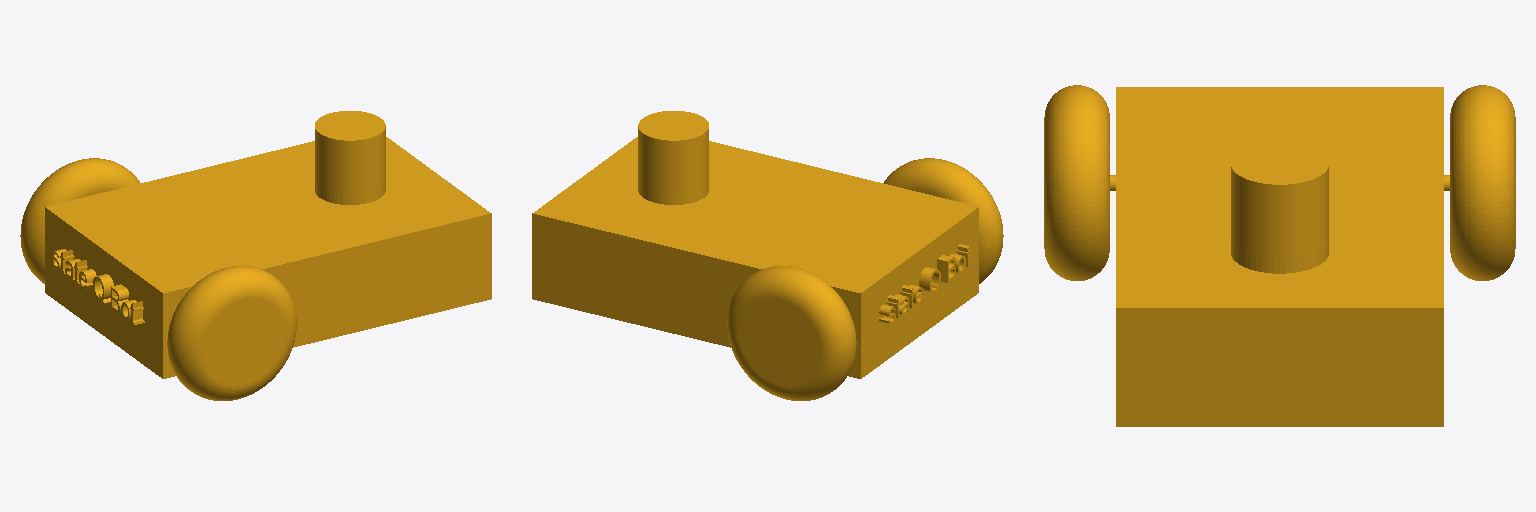
URDF robot description (stateqbot):
<?xml version="1.0"?>
<robot name="stateqbot">

  <!-- Materials -->
  <material name="Steel">
    <color rgba="0.910 0.678 0.137 1.0"/>
  </material>

  <link name="base_link">
    <inertial>
      <origin xyz="0.000124 0.000001 0.020106" rpy="0 0 0"/>
      <mass value="5.066079"/>
      <inertia ixx="4.880784e-03" ixy="3.230863e-07" ixz="-1.568186e-05"
               iyy="1.152398e-02" iyz="2.637999e-08" izz="1.503038e-02"/>
    </inertial>
    <visual>
      <origin xyz="0.000000 0.000000 0.000000" rpy="0.000000 0.000000 0.000000"/>
      <geometry>
        <mesh filename="package://stateqbot_description/meshes/stateqbot/base_link.dae" scale="1 1 1"/>
      </geometry>
      <material name="Steel"/>
    </visual>
    <collision>
      <origin xyz="0.000000 0.000000 0.000000" rpy="0.000000 0.000000 0.000000"/>
      <geometry>
        <mesh filename="package://stateqbot_description/meshes/stateqbot/base_link.dae" scale="1 1 1"/>
      </geometry>
    </collision>
  </link>

  <link name="Right_wheel">
    <inertial>
      <origin xyz="0.000000 0.000000 0.010000" rpy="0 0 0"/>
      <mass value="0.385127"/>
      <inertia ixx="8.802519e-05" ixy="0.000000e+00" ixz="0.000000e+00"
               iyy="8.802519e-05" iyz="0.000000e+00" izz="1.538347e-04"/>
    </inertial>
    <visual>
      <origin xyz="0.080000 0.150000 0.000000" rpy="1.570796 0.000000 0.000000"/>
      <geometry>
        <mesh filename="package://stateqbot_description/meshes/stateqbot/Right_wheel.dae" scale="1 1 1"/>
      </geometry>
      <material name="Steel"/>
    </visual>
    <collision>
      <origin xyz="0.080000 0.150000 0.000000" rpy="1.570796 0.000000 0.000000"/>
      <geometry>
        <mesh filename="package://stateqbot_description/meshes/stateqbot/Right_wheel.dae" scale="1 1 1"/>
      </geometry>
    </collision>
  </link>

  <link name="left_wheel">
    <inertial>
      <origin xyz="0.000000 0.000000 0.010000" rpy="0 0 0"/>
      <mass value="0.385127"/>
      <inertia ixx="8.802519e-05" ixy="0.000000e+00" ixz="0.000000e+00"
               iyy="8.802519e-05" iyz="0.000000e+00" izz="1.538347e-04"/>
    </inertial>
    <visual>
      <origin xyz="0.000000 -0.150000 0.020000" rpy="-1.570796 0.000000 0.000000"/>
      <geometry>
        <mesh filename="package://stateqbot_description/meshes/stateqbot/left_wheel.dae" scale="1 1 1"/>
      </geometry>
      <material name="Steel"/>
    </visual>
    <collision>
      <origin xyz="0.000000 -0.150000 0.020000" rpy="-1.570796 0.000000 0.000000"/>
      <geometry>
        <mesh filename="package://stateqbot_description/meshes/stateqbot/left_wheel.dae" scale="1 1 1"/>
      </geometry>
    </collision>
  </link>

  <link name="lidar">
    <inertial>
      <origin xyz="-0.000000 0.000000 0.012500" rpy="0 0 0"/>
      <mass value="0.138721"/>
      <inertia ixx="1.502810e-05" ixy="0.000000e+00" ixz="0.000000e+00"
               iyy="1.502810e-05" iyz="0.000000e+00" izz="1.560611e-05"/>
    </inertial>
    <visual>
      <origin xyz="-0.040000 0.000000 -0.045000" rpy="0.000000 0.000000 0.000000"/>
      <geometry>
        <mesh filename="package://stateqbot_description/meshes/stateqbot/lidar.dae" scale="1 1 1"/>
      </geometry>
      <material name="Steel"/>
    </visual>
    <collision>
      <origin xyz="-0.040000 0.000000 -0.045000" rpy="0.000000 0.000000 0.000000"/>
      <geometry>
        <mesh filename="package://stateqbot_description/meshes/stateqbot/lidar.dae" scale="1 1 1"/>
      </geometry>
    </collision>
  </link>

  <joint name="Right_wheel" type="continuous">
    <parent link="base_link"/>
    <child link="Right_wheel"/>
    <origin xyz="-0.053333 -0.052000 0.020000" rpy="1.570796 0.000000 0.000000"/>
    <axis xyz="0.000000 0.000000 1.000000"/>
    <limit effort="100.0" velocity="1.00"/>
  </joint>

  <joint name="left_wheel" type="continuous">
    <parent link="base_link"/>
    <child link="left_wheel"/>
    <origin xyz="-0.053333 0.052000 0.020000" rpy="-1.570796 0.000000 0.000000"/>
    <axis xyz="0.000000 0.000000 1.000000"/>
    <limit effort="100.0" velocity="1.00"/>
  </joint>

  <joint name="lidar" type="continuous">
    <parent link="base_link"/>
    <child link="lidar"/>
    <origin xyz="0.040000 0.000000 0.045000" rpy="0.000000 0.000000 0.000000"/>
    <axis xyz="0.000000 0.000000 1.000000"/>
    <limit effort="100.0" velocity="1.00"/>
  </joint>

  <!-- ROS 2 control: generated generic system -->
  <ros2_control name="stateqbot_system" type="system">
    <hardware>
      <plugin>mock_components/GenericSystem</plugin>
      <param name="cmd_topic">sim/stateqbot_system/cmd</param>
      <param name="state_topic">sim/stateqbot_system/state</param>
    </hardware>

    <joint name="Right_wheel">
      <command_interface name="position"/>
      <command_interface name="velocity"/>
      <state_interface name="position">
        <param name="initial_value">0.0</param>
      </state_interface>
      <state_interface name="velocity"/>
      <state_interface name="effort"/>
    </joint>
    <joint name="left_wheel">
      <command_interface name="position"/>
      <command_interface name="velocity"/>
      <state_interface name="position">
        <param name="initial_value">0.0</param>
      </state_interface>
      <state_interface name="velocity"/>
      <state_interface name="effort"/>
    </joint>
    <joint name="lidar">
      <command_interface name="position"/>
      <command_interface name="velocity"/>
      <state_interface name="position">
        <param name="initial_value">0.0</param>
      </state_interface>
      <state_interface name="velocity"/>
      <state_interface name="effort"/>
    </joint>
  </ros2_control>

</robot>

--- Facts derived from the render (not from the file) ---
The picture shows the robot from 3 angles, left to right: view 1: azimuth 30°, elevation 25°; view 2: azimuth 150°, elevation 25°; view 3: azimuth 270°, elevation 25°; orthographic projection.
Model stateqbot with 4 links and 3 joints (3 continuous), rooted at base_link, posed all joints at 0.
Visible links, largest first — view 1: base_link, Right_wheel, lidar, left_wheel; view 2: base_link, left_wheel, lidar, Right_wheel; view 3: base_link, Right_wheel, left_wheel, lidar.
Link boxes in pixels (<box>): base_link: <box>45,137,491,378</box>; Right_wheel: <box>167,266,296,400</box>; lidar: <box>315,111,385,193</box>; left_wheel: <box>20,158,139,283</box>; base_link: <box>532,137,978,378</box>; left_wheel: <box>727,266,856,400</box>; lidar: <box>638,111,708,193</box>; Right_wheel: <box>884,158,1003,283</box>; base_link: <box>1110,87,1449,426</box>; Right_wheel: <box>1044,85,1109,280</box>; left_wheel: <box>1450,85,1515,280</box>; lidar: <box>1231,143,1328,258</box>.
Bounding box of the posed robot: 0.165 × 0.144 × 0.08 m (x, y, z).
Meshes: 4 distinct files referenced, 4 mesh visuals loaded (4 Collada DAE).
